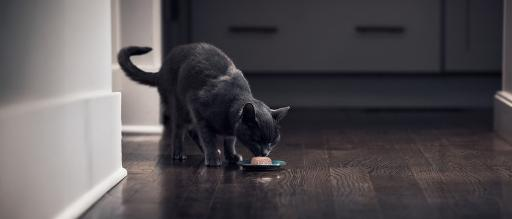cat_eating: (118, 43, 290, 166)
